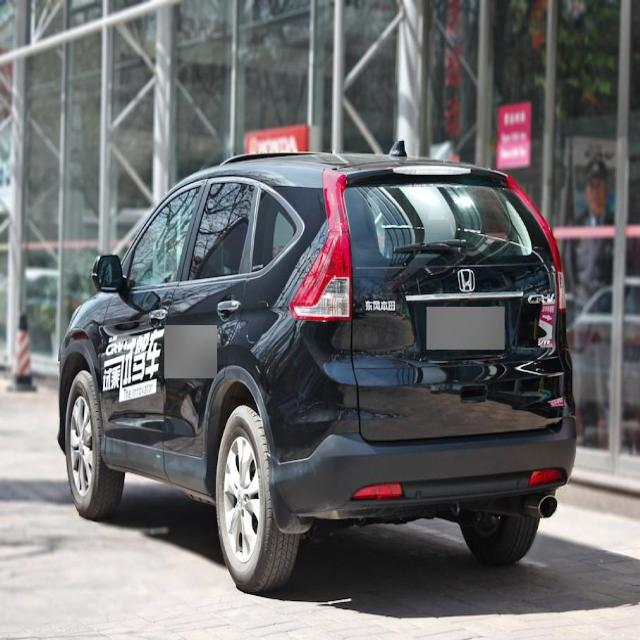back_glass: (344, 177, 542, 266)
back_left_side_light: (289, 166, 354, 321)
back_right_side_light: (506, 172, 570, 312)
door: (162, 176, 271, 485)
front_left_side_door: (94, 176, 209, 483)
front_left_side_mirror: (91, 250, 126, 292)
rear_bumper: (267, 407, 580, 518)
wheel: (215, 404, 302, 593), (65, 366, 127, 521), (458, 509, 540, 562)
